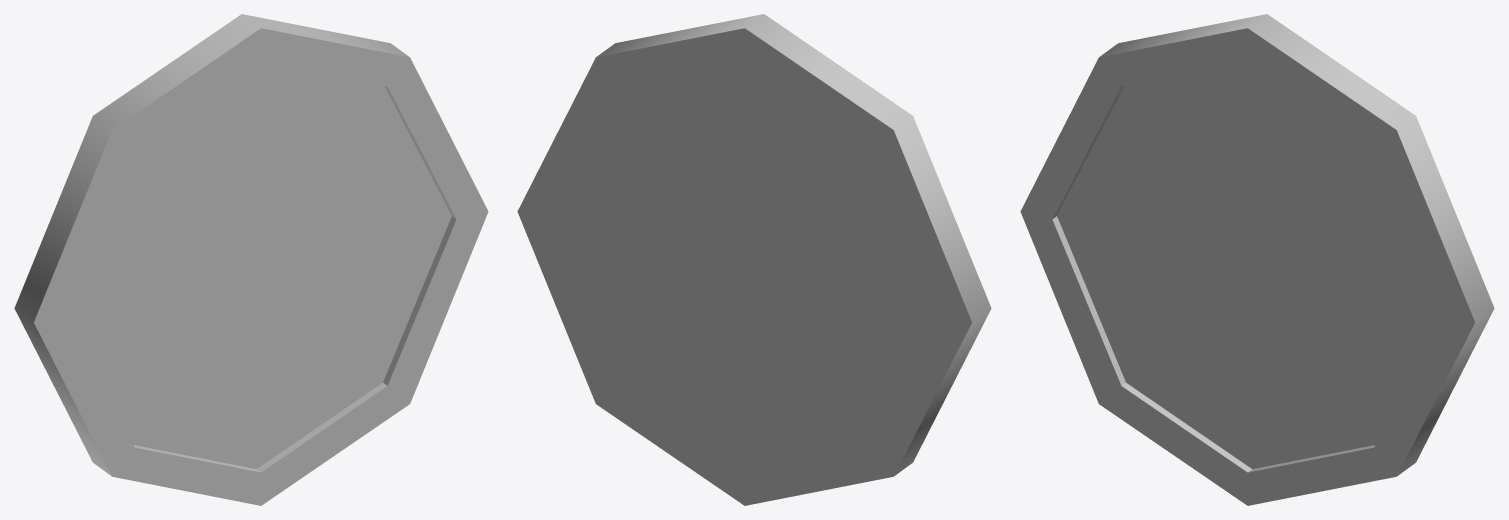
The model's file is Itr_Obj_Frame4_01.FBX.
3 renders of one model, left to right at view 1: azimuth 30°, elevation 25°; view 2: azimuth 150°, elevation 25°; view 3: azimuth 330°, elevation 25°, orthographic.
Parts seen in each view (by area): view 1: Itr_Obj_Frame4_01; view 2: Itr_Obj_Frame4_01; view 3: Itr_Obj_Frame4_01.
Part boxes in pixels (x1,y1,x2,y2): Itr_Obj_Frame4_01: (14, 14, 488, 505); Itr_Obj_Frame4_01: (517, 14, 991, 505); Itr_Obj_Frame4_01: (1020, 14, 1494, 505).
Bounding box in the file's own units: 31.46 × 31.59 × 2.32.
